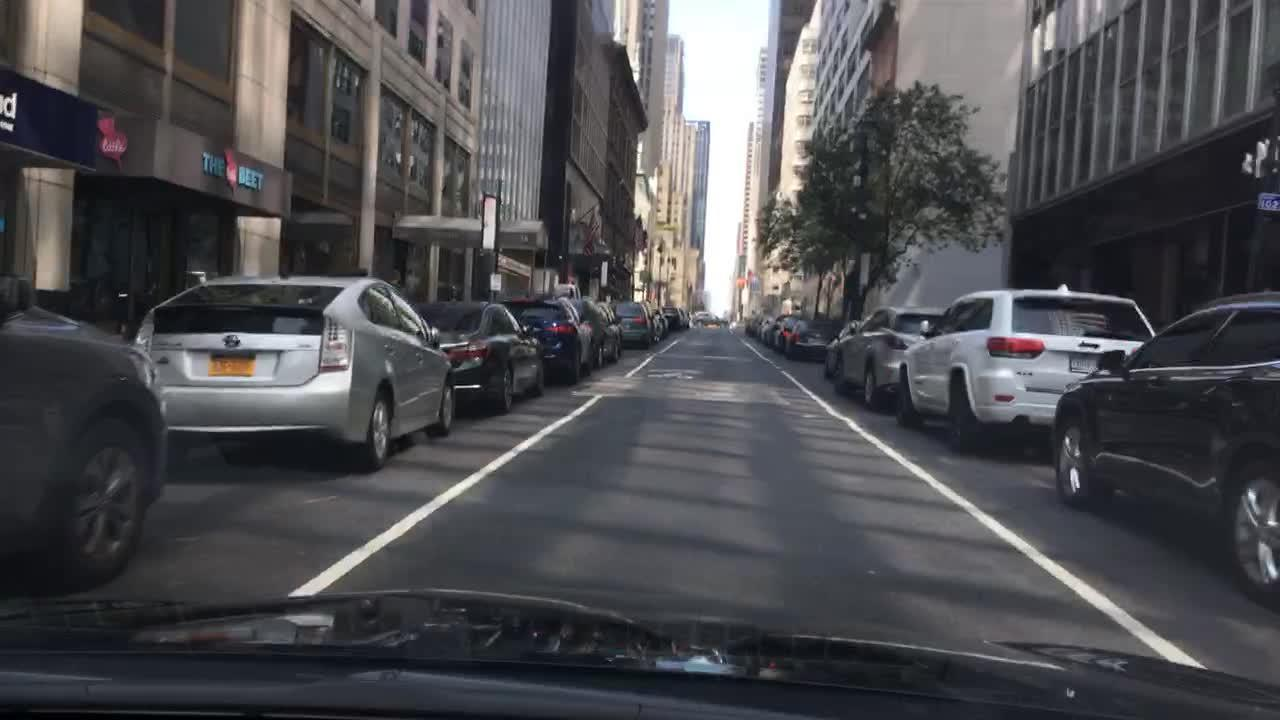Toyota: (219, 327, 244, 353)
jeep: (1078, 339, 1102, 352)
